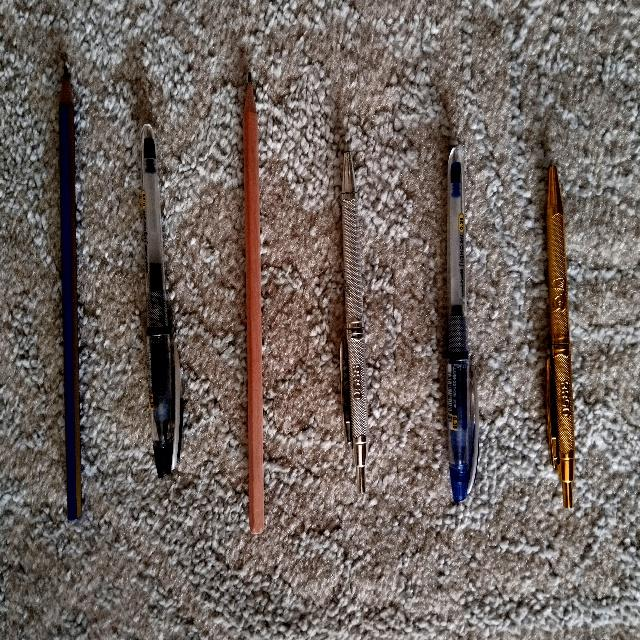pen: (142, 124, 181, 476), (447, 147, 478, 502)
pencil: (59, 65, 81, 519), (243, 74, 263, 533)
signature pen: (546, 165, 574, 507), (340, 152, 367, 492)
